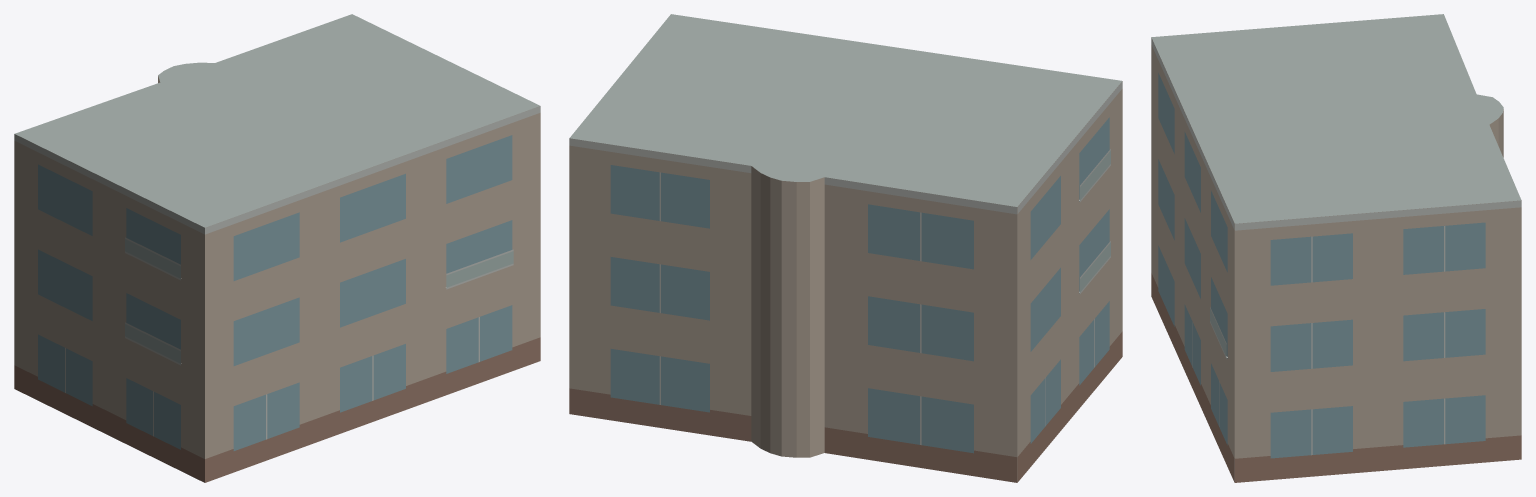
The model's file is survey-upis-32708121.glb.
The picture shows the model from 3 angles, left to right: view 1: azimuth 30°, elevation 25°; view 2: azimuth 150°, elevation 25°; view 3: azimuth 270°, elevation 25°; orthographic projection. The views are drawn at different scales.
Parts seen in each view (by area): view 1: survey-upis-32708121.tmp; view 2: survey-upis-32708121.tmp; view 3: survey-upis-32708121.tmp.
Boxes of the visible parts, x1,y1,x2,y2 form: survey-upis-32708121.tmp: (14,14,540,482); survey-upis-32708121.tmp: (569,14,1122,482); survey-upis-32708121.tmp: (1151,14,1521,482).
Size of the model in its own units: 15.9 by 9.15 by 11.86.
